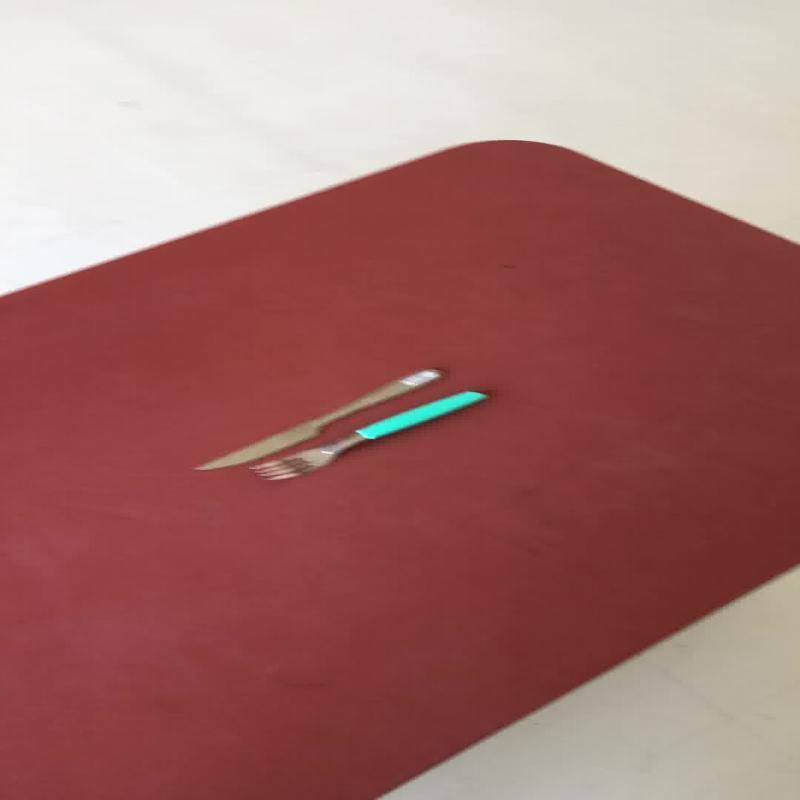fork: (246, 388, 489, 480)
knife: (188, 366, 446, 471), (246, 388, 489, 481)
